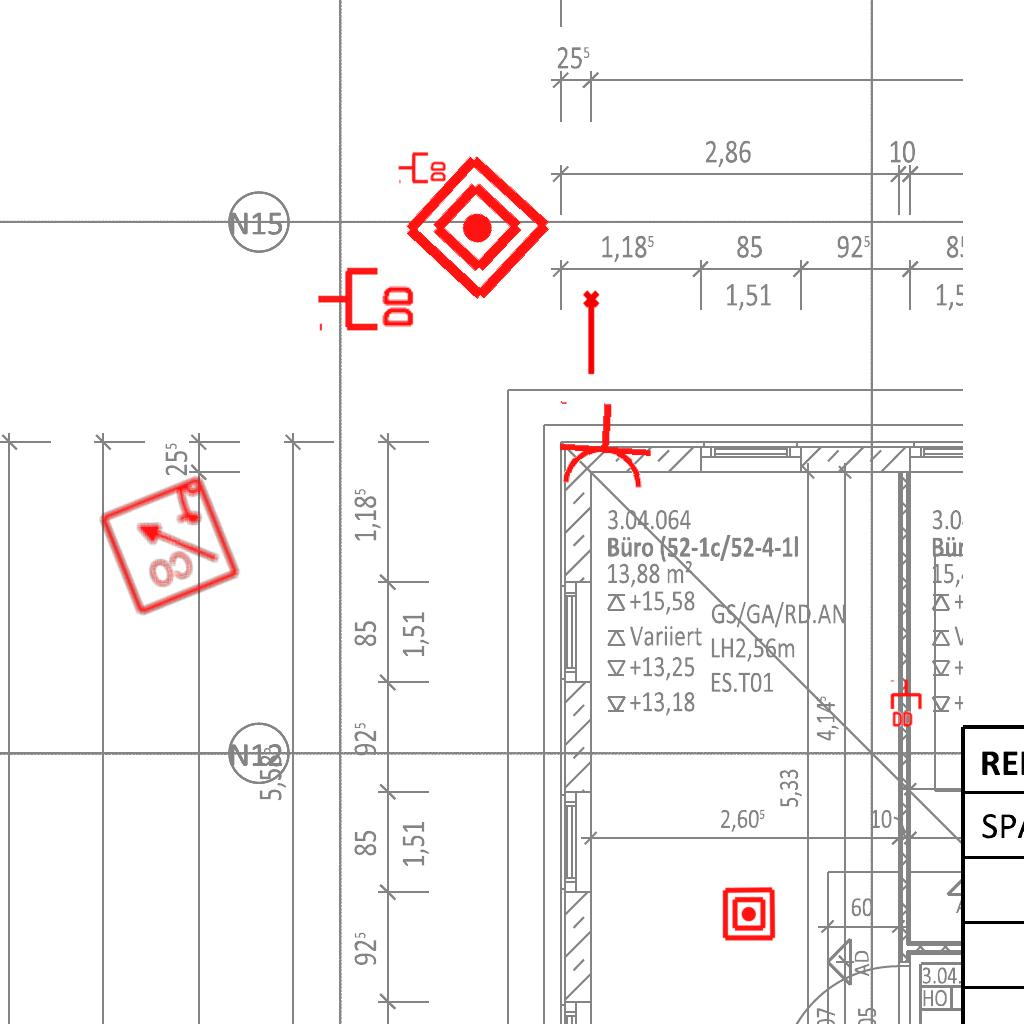ASR_Ansaugoeffnung: (581, 289, 604, 377)
Datenanschluss_zweifach: (315, 263, 418, 332), (890, 678, 924, 729), (397, 150, 448, 184)
NAM-Nichtautomatischer_Melder: (397, 147, 558, 308), (721, 886, 777, 942)
ROA_Rauchmelder_optisch_mit_Signalgeber_(Sockelsirene): (94, 470, 243, 619)
Schukosteckdose_einfach: (550, 398, 657, 492)
